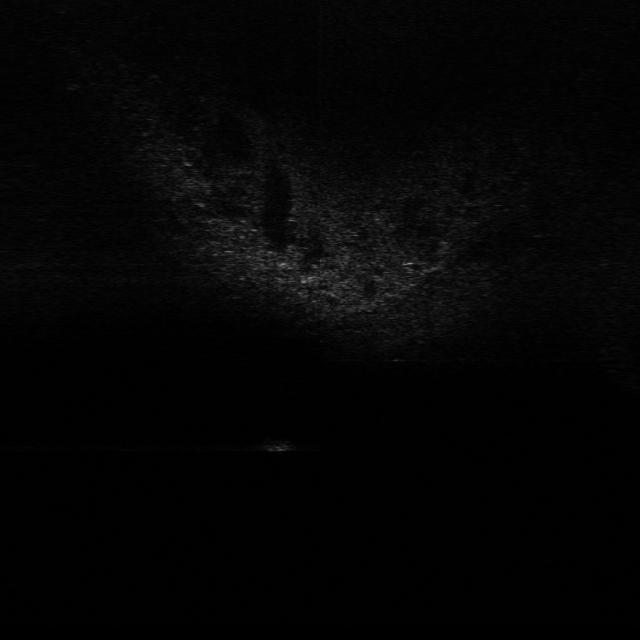cube: (257, 437, 297, 455)
